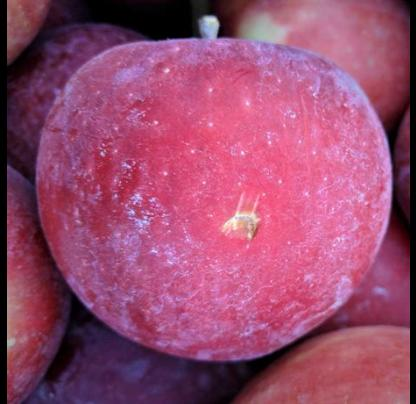defect: (185, 176, 297, 260)
